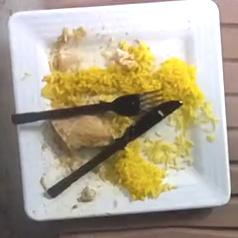pork: (51, 111, 136, 169)
rice: (41, 27, 216, 198)
